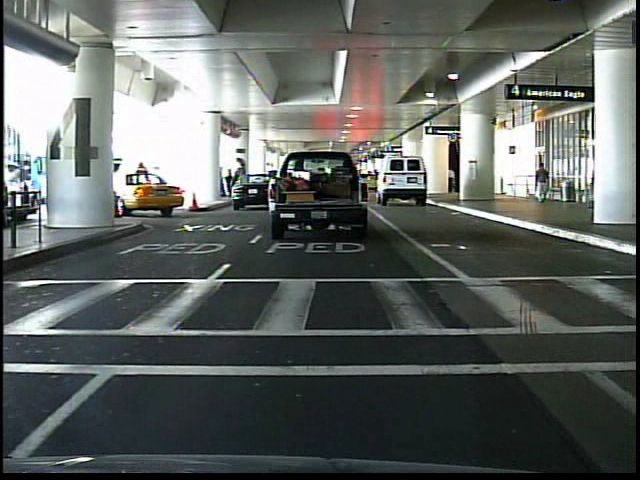person: (531, 157, 552, 208), (445, 164, 459, 198)
